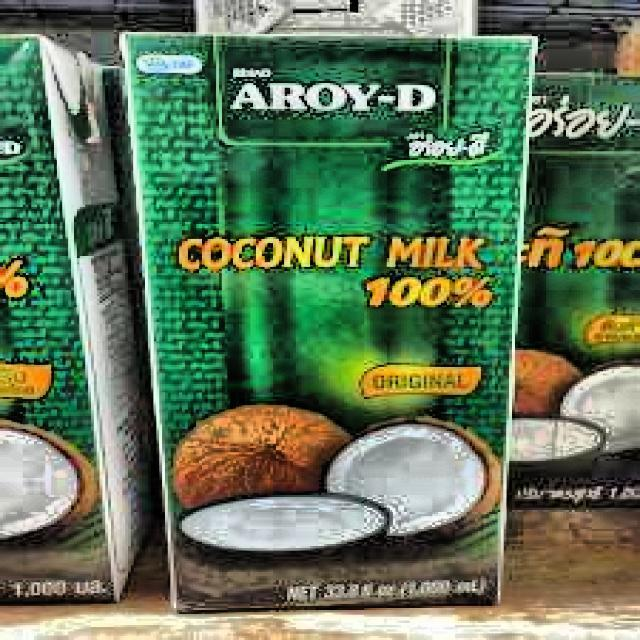cardboard: (117, 28, 538, 612), (0, 30, 154, 604)
